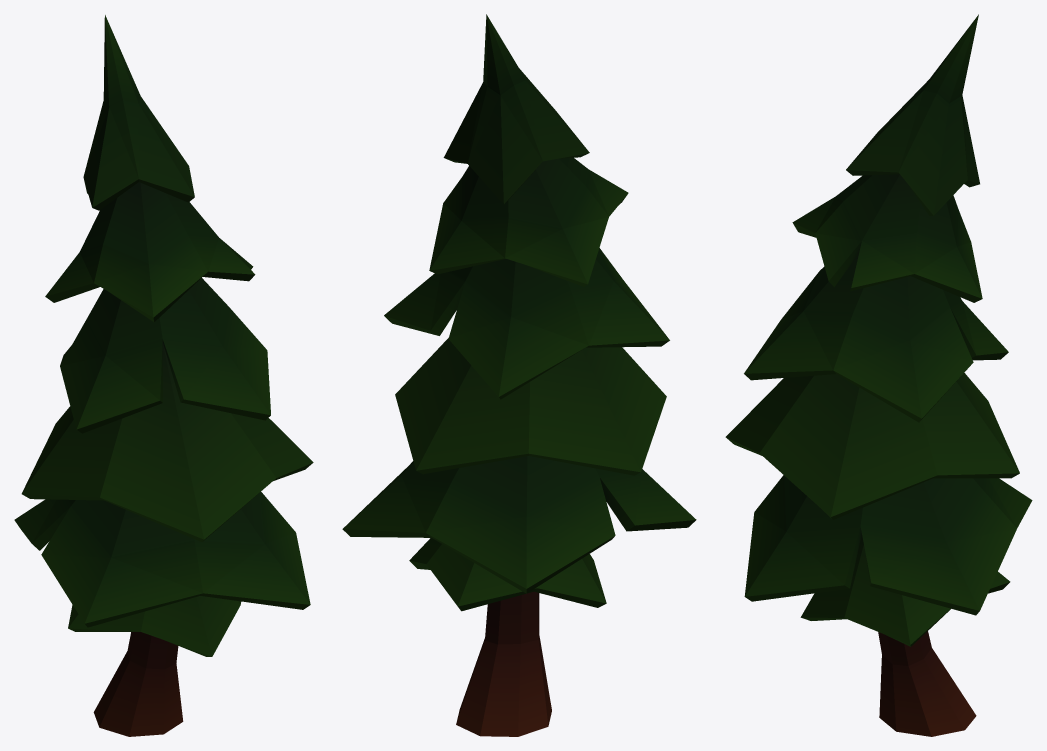
File: Twisted Pine 1.fbx
3 renders of one model, left to right at view 1: azimuth 30°, elevation 25°; view 2: azimuth 150°, elevation 25°; view 3: azimuth 270°, elevation 25°, orthographic. The views are drawn at different scales.
Visible parts, largest first — view 1: Pine Tree; view 2: Pine Tree; view 3: Pine Tree.
Boxes of the visible parts, x1,y1,x2,y2 form: Pine Tree: (14,15,313,736); Pine Tree: (342,14,696,736); Pine Tree: (725,14,1032,736).
Bounding box in the file's own units: 146 × 383 × 153.
